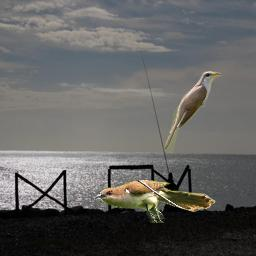Cuckoo: (94, 180, 216, 223), (162, 71, 221, 153)
